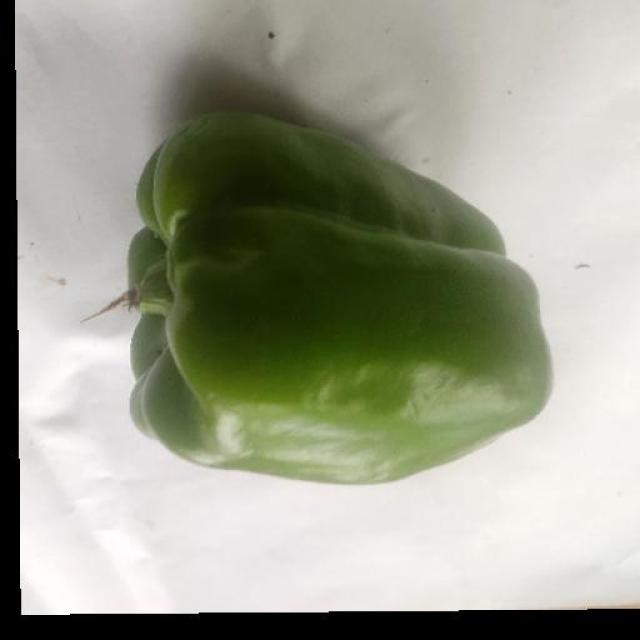Fresh_Capsicum: (159, 182, 523, 463)
